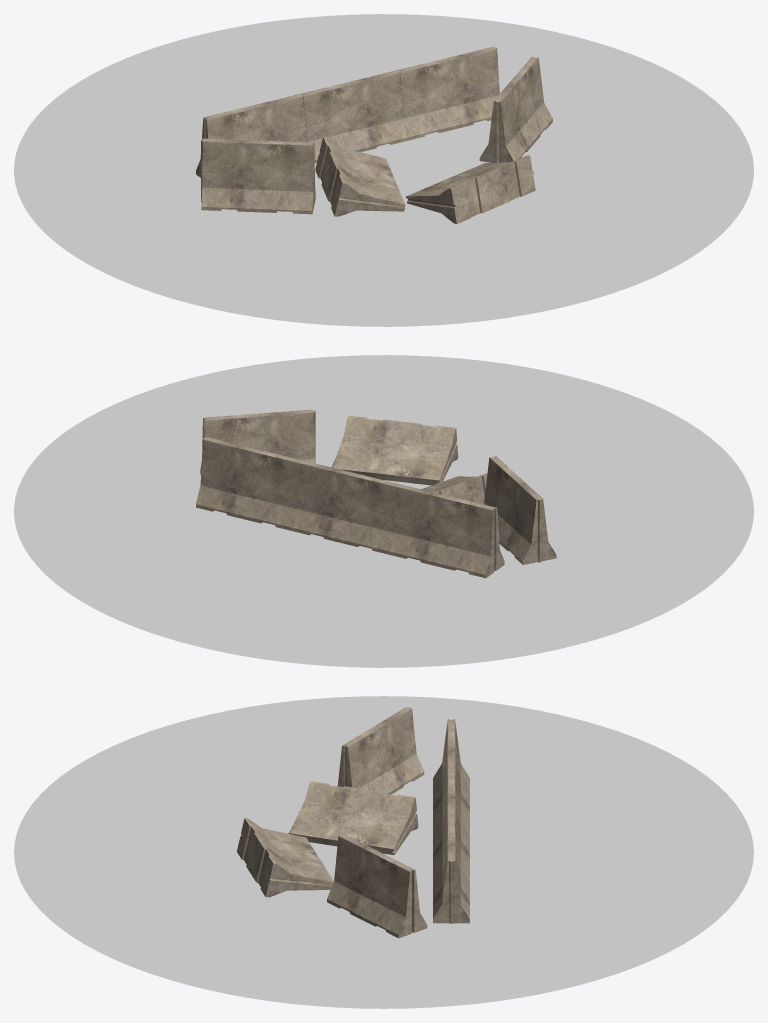
The model's file is road_barrier.glb.
3 views of the same model, one above another, from view 1: azimuth 30°, elevation 25°; view 2: azimuth 150°, elevation 25°; view 3: azimuth 270°, elevation 25° (orthographic).
Visible parts, largest first — view 1: Circle, Barrier.003, Barrier.002, Barrier, Barrier.006, Barrier.005, Barrier.004, Barrier.001; view 2: Circle, Barrier.001, Barrier.002, Barrier, Barrier.006, Barrier.003, Barrier.004, Barrier.005; view 3: Circle, Barrier.005, Barrier.004, Barrier.003, Barrier.006, Barrier.002, Barrier.001, Barrier.
Boxes of the visible parts, x1=… form: Circle: x1=14, y1=14, x2=753, y2=326; Barrier.003: x1=201, y1=138, x2=315, y2=214; Barrier.002: x1=397, y1=46, x2=499, y2=140; Barrier: x1=300, y1=70, x2=407, y2=163; Barrier.006: x1=406, y1=155, x2=535, y2=223; Barrier.005: x1=315, y1=136, x2=405, y2=216; Barrier.004: x1=479, y1=56, x2=552, y2=162; Barrier.001: x1=196, y1=94, x2=306, y2=177; Circle: x1=14, y1=355, x2=753, y2=667; Barrier.001: x1=389, y1=484, x2=504, y2=578; Barrier.002: x1=196, y1=437, x2=303, y2=530; Barrier: x1=292, y1=461, x2=399, y2=554; Barrier.006: x1=331, y1=415, x2=458, y2=485; Barrier.003: x1=483, y1=456, x2=556, y2=564; Barrier.004: x1=200, y1=409, x2=315, y2=474; Barrier.005: x1=421, y1=473, x2=487, y2=504; Circle: x1=14, y1=696, x2=753, y2=1008; Barrier.005: x1=288, y1=781, x2=418, y2=854; Barrier.004: x1=327, y1=834, x2=427, y2=938; Barrier.003: x1=337, y1=707, x2=424, y2=794; Barrier.006: x1=237, y1=818, x2=333, y2=897; Barrier.002: x1=433, y1=813, x2=469, y2=923; Barrier.001: x1=433, y1=719, x2=469, y2=824; Barrier: x1=433, y1=766, x2=469, y2=871.
Bounding box in the file's own units: 3980 × 372 × 3980.
Materials: 8 (7 with a texture image).
